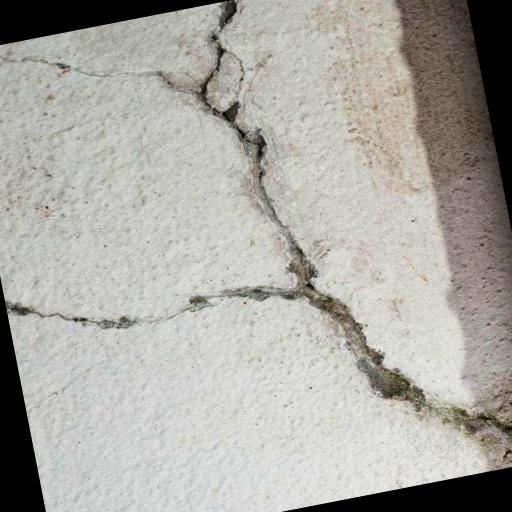spalling: (3, 0, 485, 446)
